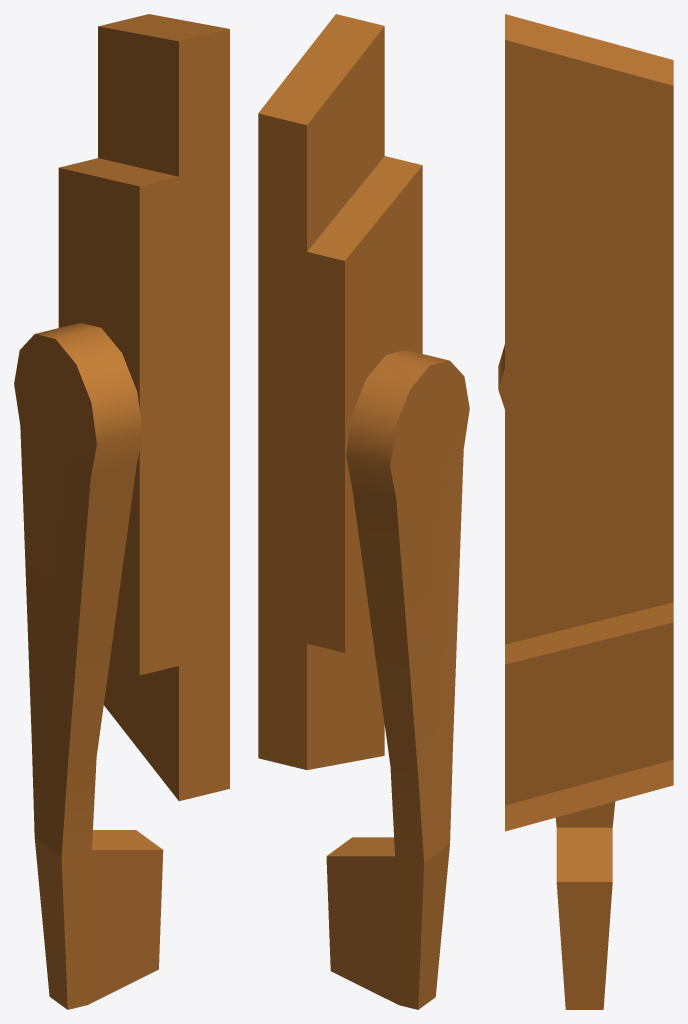
The model's file is window_slider_0.obj.
3 views of the same model, side by side, from view 1: azimuth 30°, elevation 25°; view 2: azimuth 150°, elevation 25°; view 3: azimuth 270°, elevation 25° (orthographic). The views are drawn at different scales.
Bounding box in the file's own units: 0.021 × 0.1353 × 0.0213.
